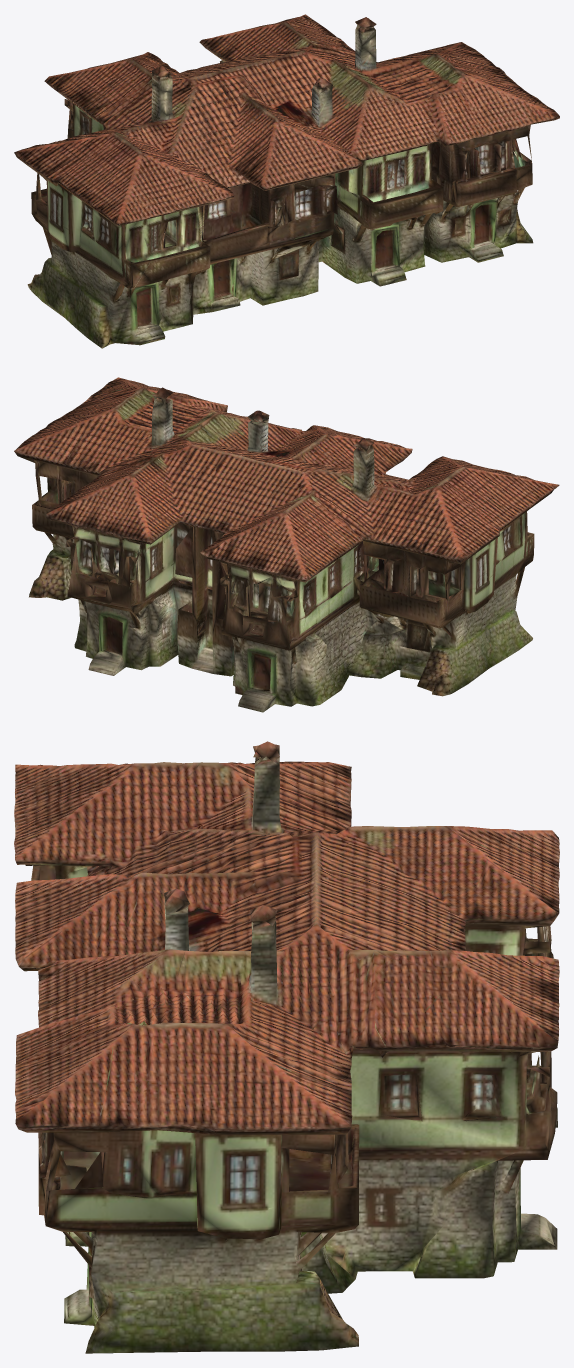
Rendered from city_ordu_timber_houses.glb.
3 renders of one model, top to bottom at view 1: azimuth 30°, elevation 25°; view 2: azimuth 150°, elevation 25°; view 3: azimuth 270°, elevation 25°, orthographic. The views are drawn at different scales.
Parts seen in each view (by area): view 1: Mesh1.0; view 2: Mesh1.0; view 3: Mesh1.0.
Boxes of the visible parts, x1,y1,x2,y2 form: Mesh1.0: [14, 14, 559, 348]; Mesh1.0: [14, 377, 559, 712]; Mesh1.0: [14, 741, 559, 1353].
Size of the model in its own units: 24.13 by 11 by 15.23.
Materials: 1 (1 with a texture image).
